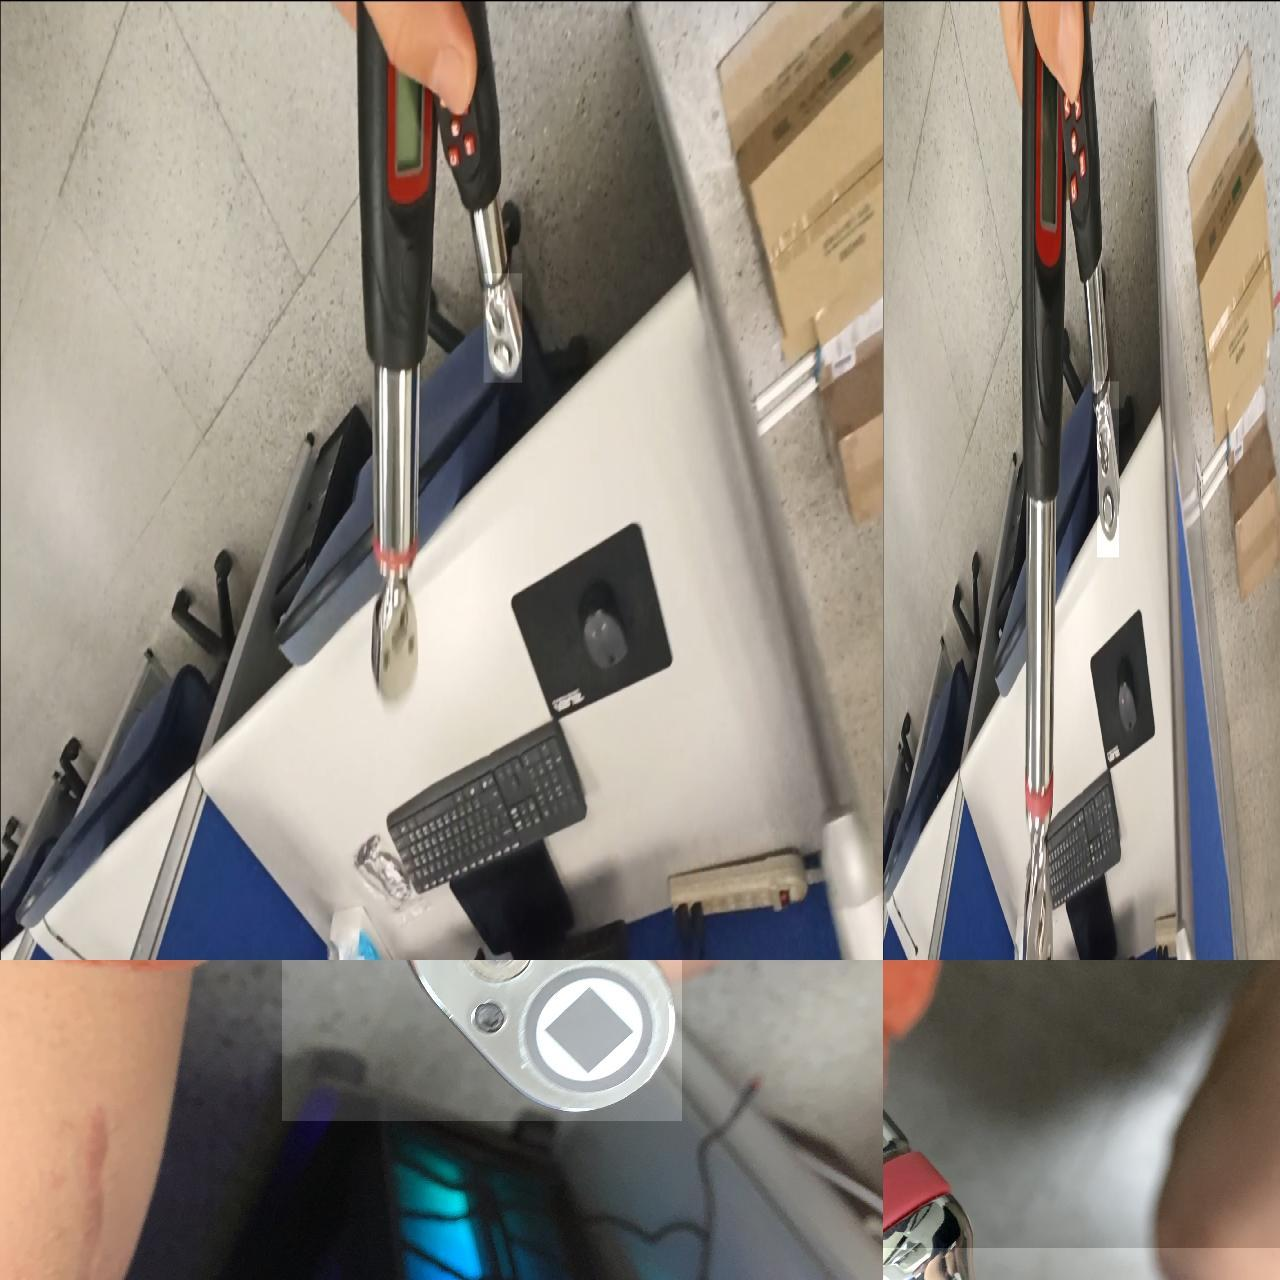Tool: (281, 960, 681, 1120), (483, 272, 521, 382), (1096, 380, 1118, 556)
